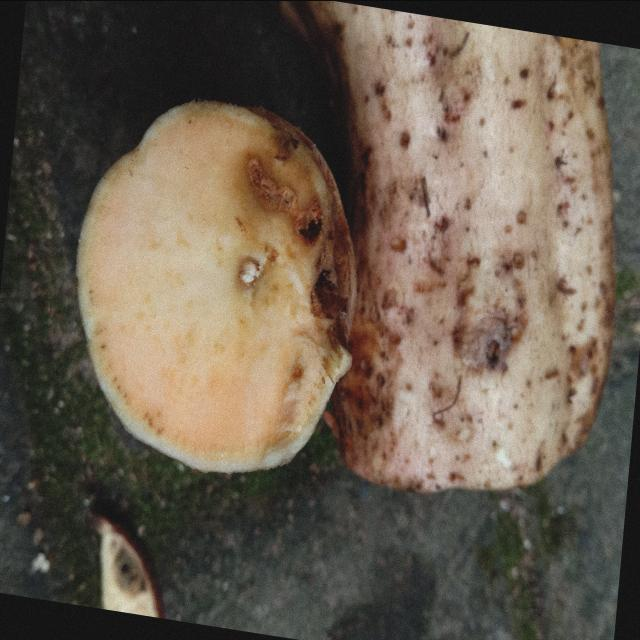Sick Sweet Potato_Tuber Rot: (78, 100, 356, 472)
